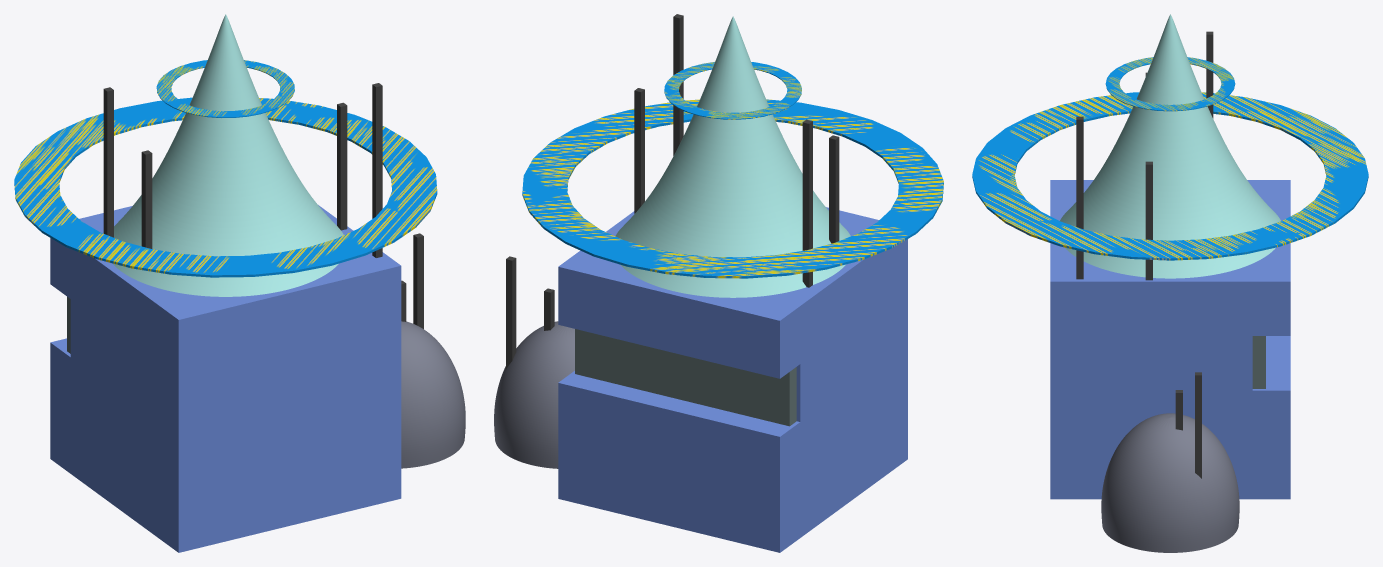
Rendered from Scifi4.fbx.
3 views of the same model, side by side, from view 1: azimuth 30°, elevation 25°; view 2: azimuth 150°, elevation 25°; view 3: azimuth 270°, elevation 25° (orthographic). The views are drawn at different scales.
Visible parts, largest first — view 1: Haus, Dach, Drehdinggroß, Nebending, Drehding, Antenne1, Antenne3, Antenne4, Antenne2, Antenne5; view 2: Haus, Dach, Drehdinggroß, Fenster, Nebending, Drehding, Antenne1, Antenne4, Antenne2, Antenne5, Antenne3; view 3: Haus, Dach, Drehdinggroß, Nebending, Drehding, Antenne3, Antenne4, Fenster, Antenne5, Antenne1.
Boxes of the visible parts, <box> form: Haus: <box>50,205,401,552</box>; Dach: <box>112,14,343,296</box>; Drehdinggroß: <box>14,97,437,277</box>; Nebending: <box>401,321,465,468</box>; Drehding: <box>156,60,294,117</box>; Antenne1: <box>103,87,113,237</box>; Antenne3: <box>372,83,382,257</box>; Antenne4: <box>337,102,347,230</box>; Antenne2: <box>141,150,152,248</box>; Antenne5: <box>413,233,423,328</box>; Haus: <box>558,207,907,552</box>; Dach: <box>615,16,850,297</box>; Drehdinggroß: <box>522,99,943,278</box>; Fenster: <box>575,329,796,426</box>; Nebending: <box>494,321,574,468</box>; Drehding: <box>664,62,801,119</box>; Antenne1: <box>802,119,812,287</box>; Antenne4: <box>634,88,644,213</box>; Antenne2: <box>829,135,839,243</box>; Antenne5: <box>506,256,516,369</box>; Antenne3: <box>673,14,683,155</box>; Haus: <box>1050,180,1290,499</box>; Dach: <box>1060,14,1280,278</box>; Drehdinggroß: <box>972,92,1368,260</box>; Nebending: <box>1101,413,1239,552</box>; Drehding: <box>1105,57,1235,111</box>; Antenne3: <box>1076,116,1083,279</box>; Antenne4: <box>1145,161,1152,280</box>; Fenster: <box>1252,336,1265,388</box>; Antenne5: <box>1195,372,1201,478</box>; Antenne1: <box>1206,31,1213,118</box>.
Size of what is drawn, in the model's own units: 372 by 399 by 330.
